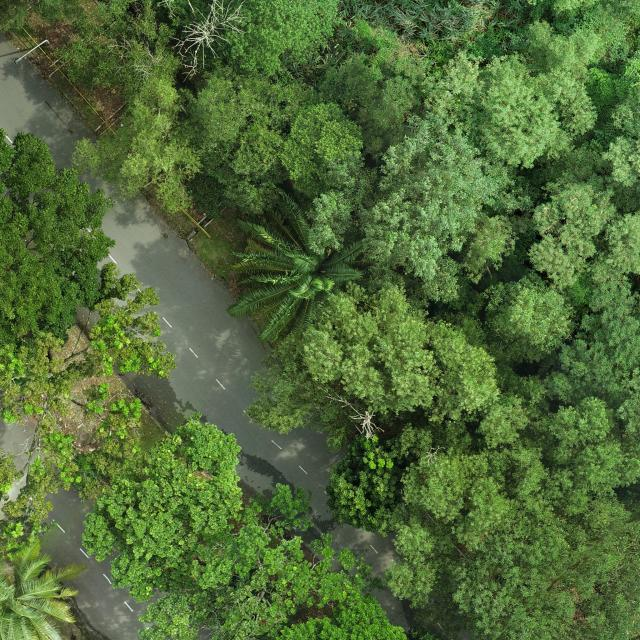tree: (70, 0, 320, 216), (80, 412, 316, 640), (0, 262, 176, 561), (245, 280, 504, 460), (302, 107, 535, 280), (0, 125, 128, 345), (226, 184, 371, 346), (422, 50, 598, 170), (317, 19, 424, 165), (526, 178, 620, 290), (482, 267, 582, 368), (213, 0, 341, 78), (0, 538, 89, 640), (324, 434, 406, 532)
